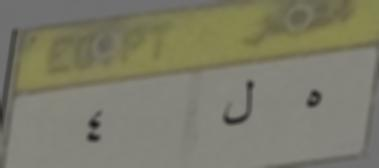4: (84, 106, 106, 146)
haa: (298, 83, 327, 119)
laam: (218, 79, 259, 131)
